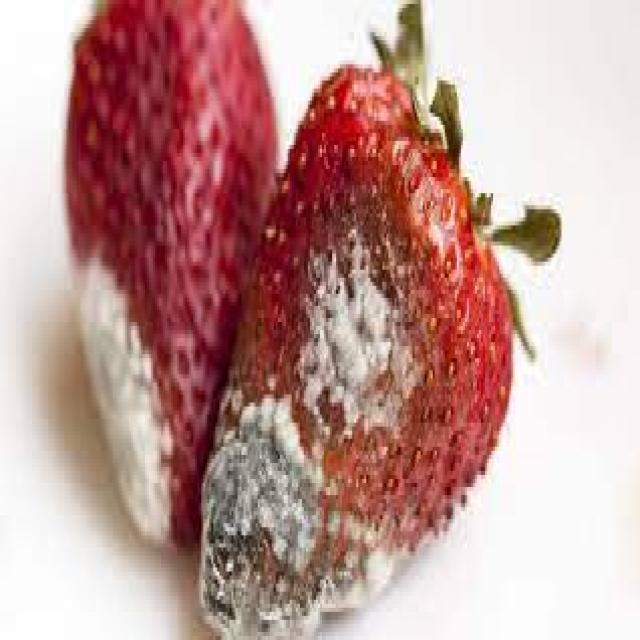Moho gris: (195, 56, 524, 630), (59, 12, 274, 541)
